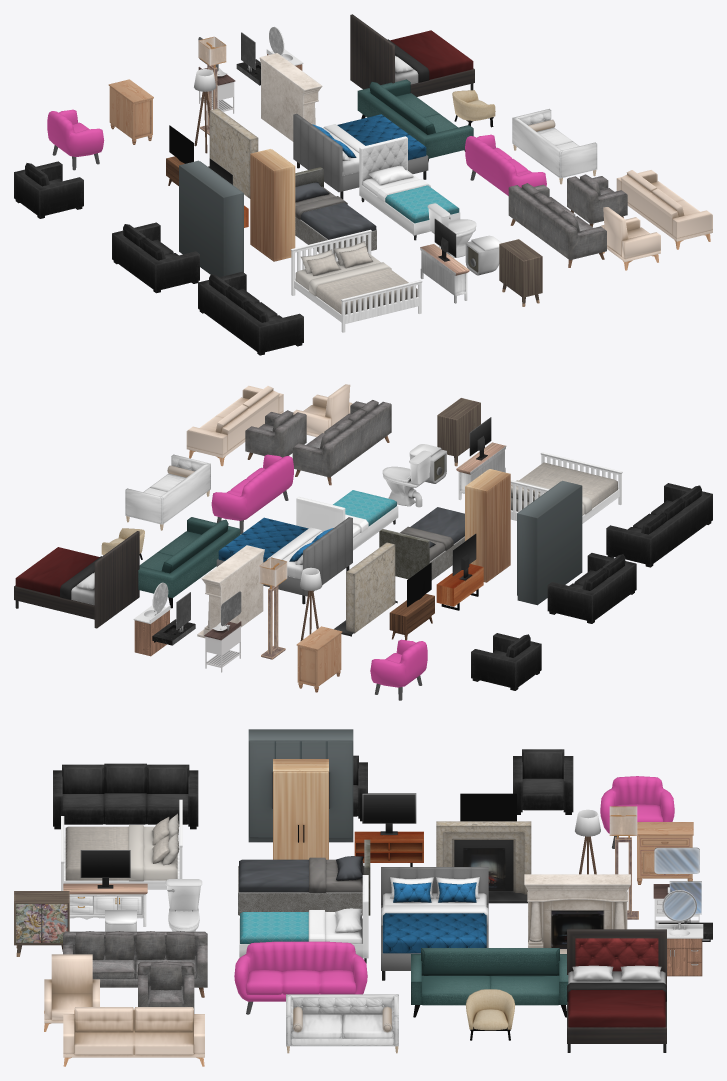
The picture shows the model from 3 angles, top to bottom: view 1: azimuth 30°, elevation 25°; view 2: azimuth 150°, elevation 25°; view 3: azimuth 270°, elevation 25°; orthographic projection. The views are drawn at different scales.
Parts seen in each view (by area): view 1: Base_Low.001_22, Base_Low_20, Cube.021_26, Base_Low.002_3, Cube.015_18, Cube.005_8, Cube.017_21, Cube.009_12, Cube.011_14, Cube.016_19, Cube.006_9, Cube.014_17 (+20 smaller); view 2: Base_Low_20, Cube.021_26, Base_Low.002_3, Cube.005_8, Cube.009_12, Cube.011_14, Cube.017_21, Cube.006_9, Base_Low.001_22, Cube.016_19, Cube.014_17, Cube.012_15 (+20 smaller); view 3: Base_Low_20, Base_Low.002_3, Cube.005_8, Cube.009_12, Cube.021_26, Cube.014_17, Cube.016_19, Cylinder_6, Cube.022_27, Base_Low.001_22, Cube.012_15, Cube.001_0 (+21 smaller).
Part boxes in pixels (box(x1,y1,x2,y2)): Base_Low.001_22: box(290, 229, 422, 332); Base_Low_20: box(350, 14, 474, 96); Cube.021_26: box(179, 160, 243, 277); Base_Low.002_3: box(293, 113, 428, 199); Cube.015_18: box(359, 136, 460, 240); Cube.005_8: box(198, 271, 303, 355); Cube.017_21: box(250, 149, 295, 261); Cube.009_12: box(357, 79, 473, 161); Cube.011_14: box(508, 183, 606, 267); Cube.016_19: box(295, 167, 376, 257); Cube.006_9: box(112, 222, 199, 293); Cube.014_17: box(616, 170, 712, 249); Base_Low_20: box(14, 531, 139, 628); Cube.021_26: box(517, 480, 582, 605); Base_Low.002_3: box(216, 517, 352, 604); Cube.005_8: box(606, 483, 712, 567); Cube.009_12: box(138, 517, 240, 608); Cube.011_14: box(292, 400, 391, 485); Cube.017_21: box(465, 469, 510, 582); Cube.006_9: box(547, 553, 636, 623); Base_Low.001_22: box(510, 452, 622, 523); Cube.016_19: box(379, 507, 464, 580); Cube.014_17: box(186, 385, 283, 466); Cube.012_15: box(125, 454, 210, 530); Base_Low_20: box(567, 929, 666, 1052); Base_Low.002_3: box(381, 867, 488, 980); Cube.005_8: box(53, 763, 198, 829); Cube.009_12: box(411, 948, 568, 1017); Cube.021_26: box(248, 729, 353, 842); Cube.014_17: box(63, 1007, 204, 1066); Cube.016_19: box(238, 839, 370, 915); Cylinder_6: box(234, 941, 367, 1014); Cube.022_27: box(524, 874, 630, 953); Base_Low.001_22: box(61, 799, 182, 890); Cube.012_15: box(286, 994, 398, 1053); Cube.001_0: box(436, 821, 531, 903).
Bounding box in the file's own units: 9.12 × 1.69 × 9.67.
33 materials, 33 textured.
